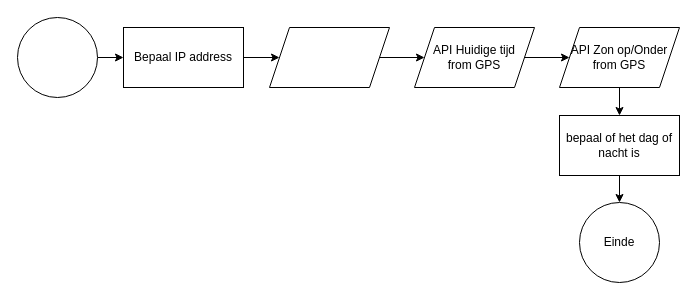
Image size: 697x300. Some labels were removed from this diagram. Here are the shapes that lost their labels. From the top down, the box of each, then its label:
(16, 16, 98, 98): Begin
(268, 26, 390, 88): API GPS from IP
